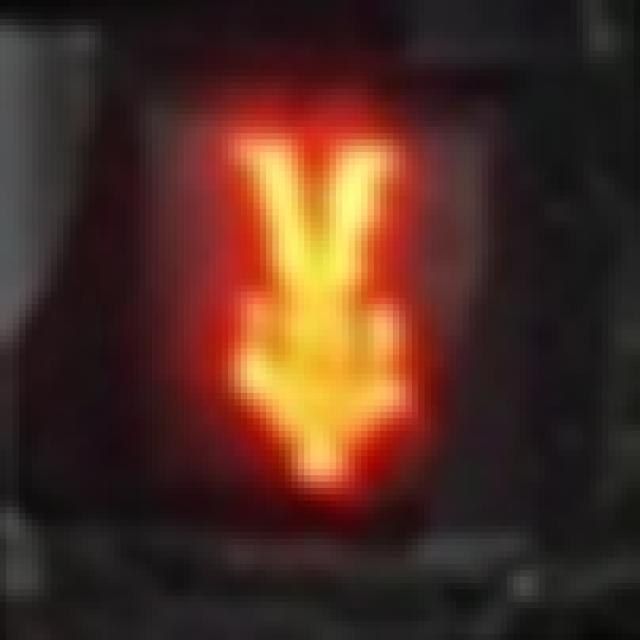red-crossing: (178, 101, 444, 526)
